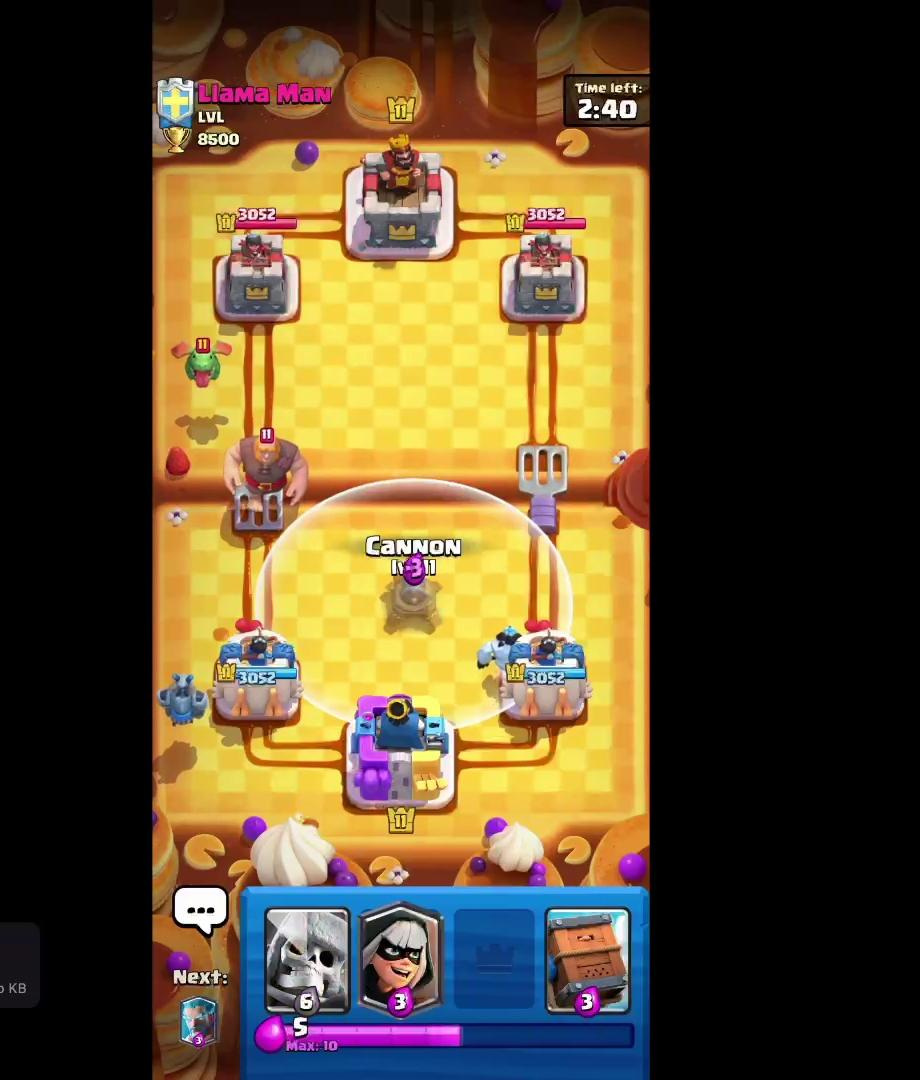Baby Dragon: (158, 327, 252, 390)
Giant: (219, 419, 307, 519)
